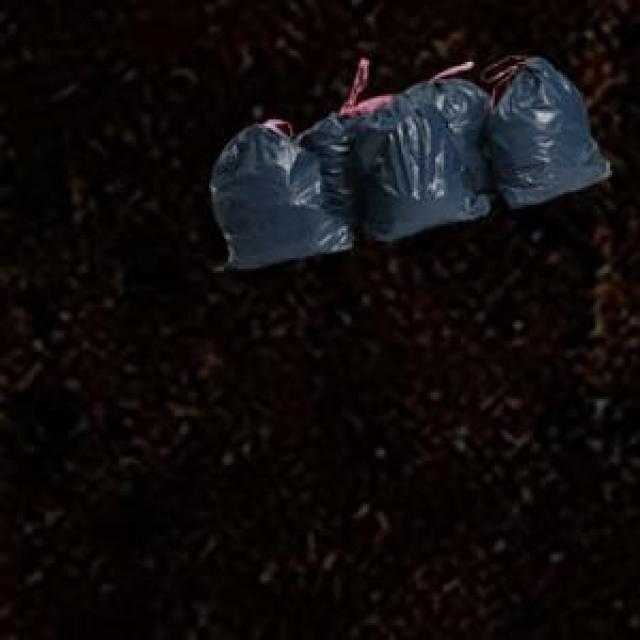waste: (210, 58, 609, 268)
